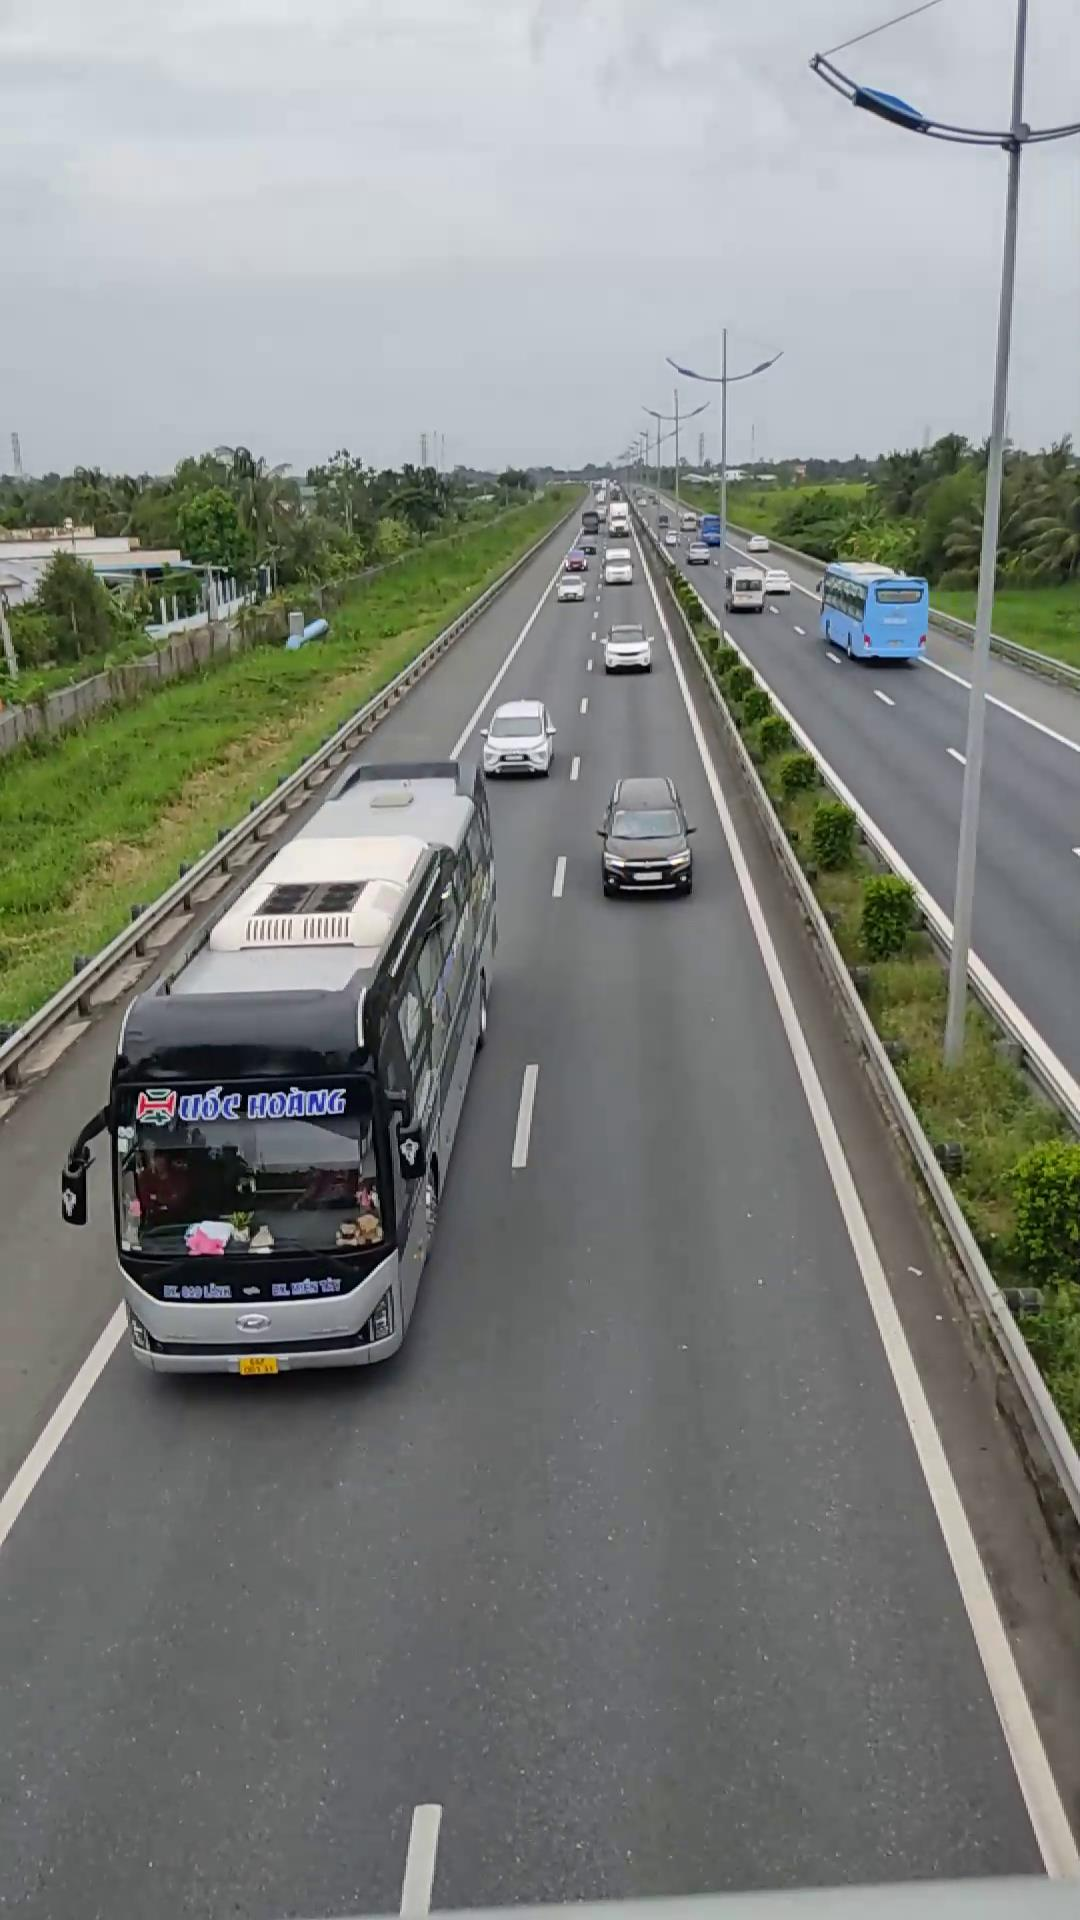bus: (100, 753, 508, 1386)
car: (595, 774, 696, 895), (476, 699, 556, 777)
